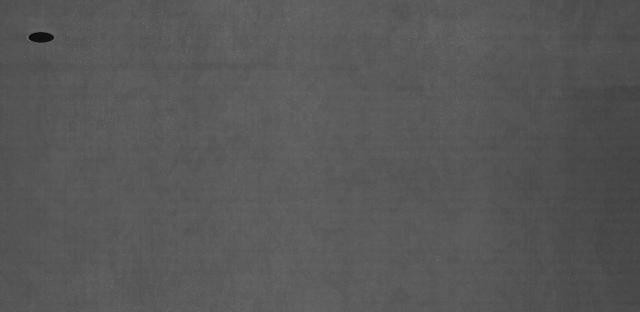punching_hole: (24, 30, 58, 43)
